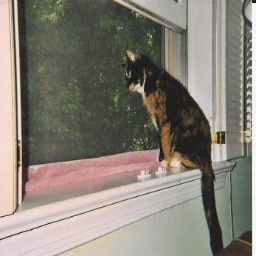cat: (113, 45, 225, 254)
